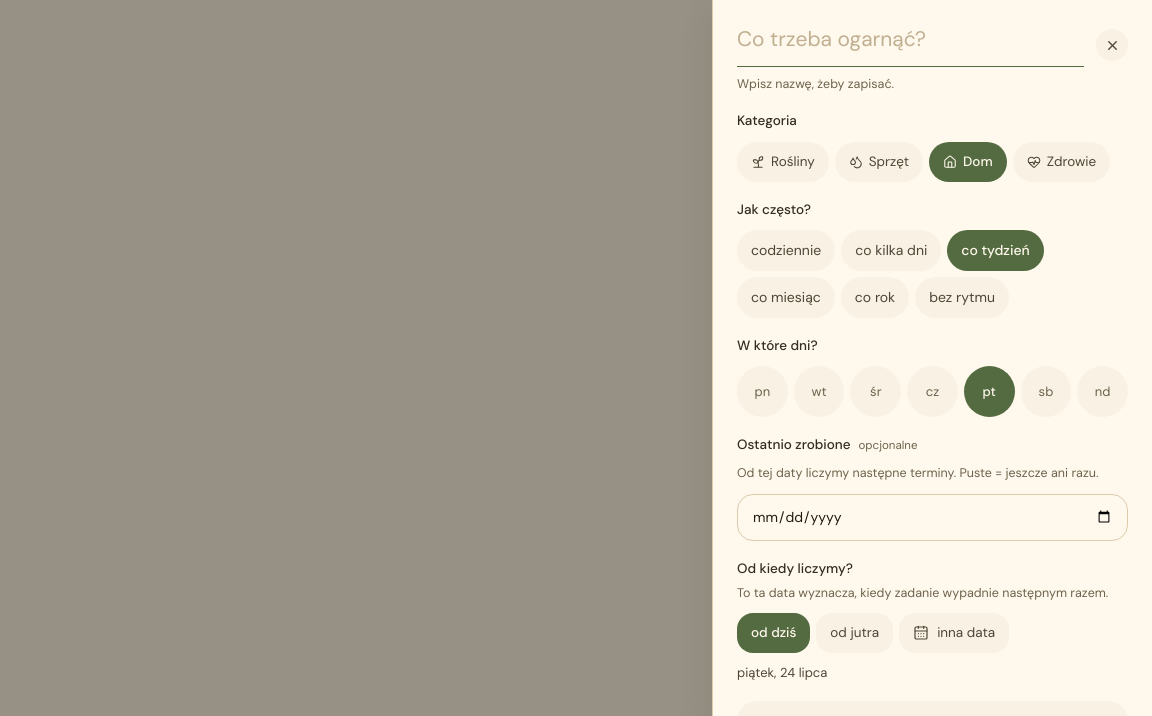
Scenario: TaskSheet › says why the save button is dead instead of leaving it greyed out unexplained
The width and height of the screenshot is (1152, 716).
Expected: the text "Wpisz nazwę, żeby zapisać." is shown, [737,76,894,92]
Type "Wymienić filtr" into the field with placeholder "Co trzeba ogarnąć?" at (910, 45), box [737,24,1084,66]
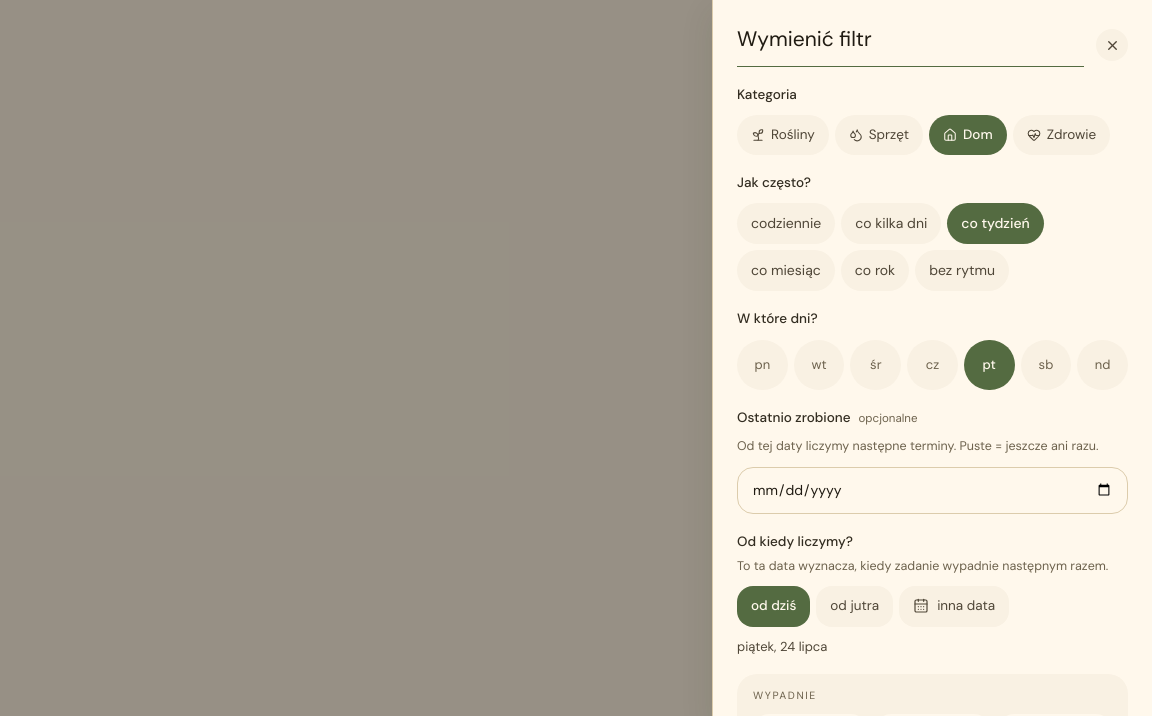
Now the text "Wpisz nazwę, żeby zapisać." is gone
